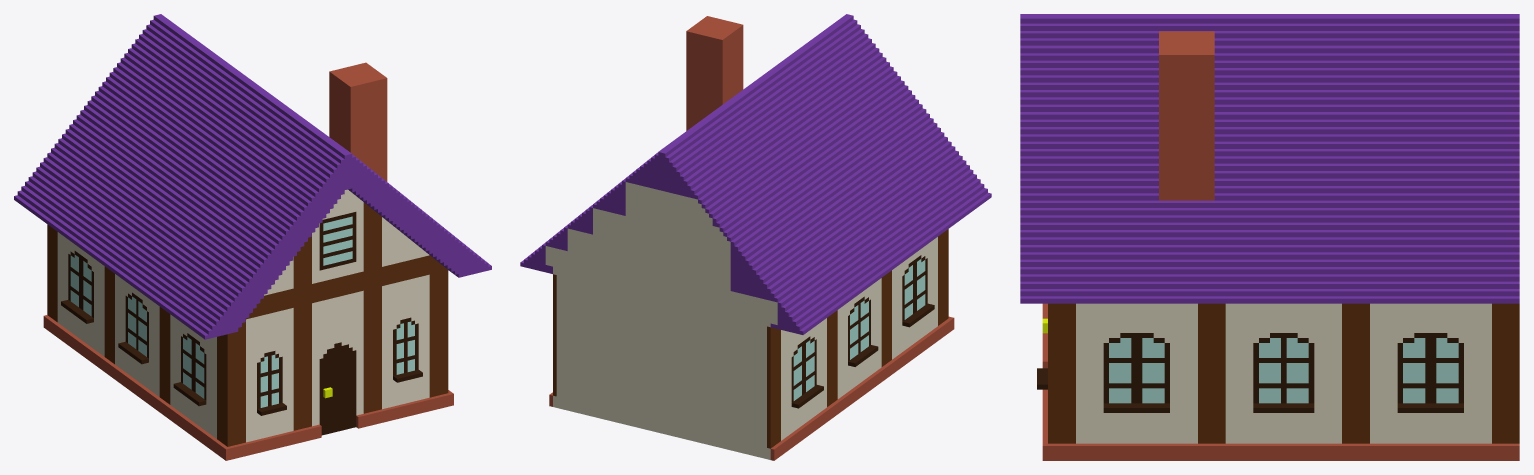
The model's file is house.violet.obj.
The picture shows the model from 3 angles, left to right: view 1: azimuth 30°, elevation 25°; view 2: azimuth 150°, elevation 25°; view 3: azimuth 270°, elevation 25°; orthographic projection. The views are drawn at different scales.
Size of the model in its own units: 7.8 by 7.8 by 9.
Materials: 1 (1 with a texture image).
